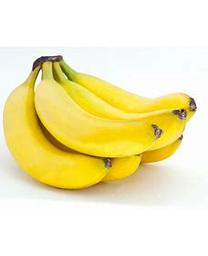banana: (3, 55, 200, 191)
